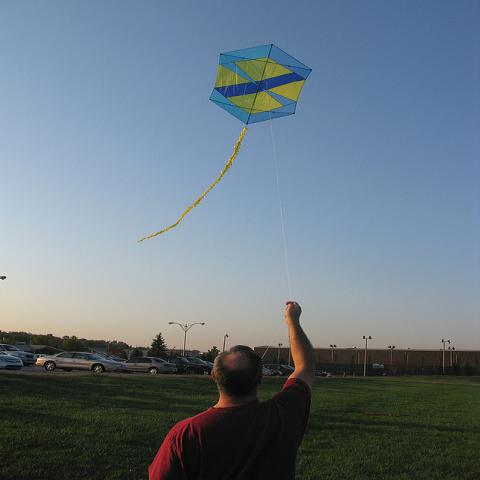car: (34, 352, 119, 374), (120, 356, 177, 375), (2, 343, 37, 365), (164, 356, 209, 373), (184, 356, 214, 376), (0, 349, 22, 369), (262, 364, 295, 376), (114, 359, 129, 370), (262, 367, 273, 375)
